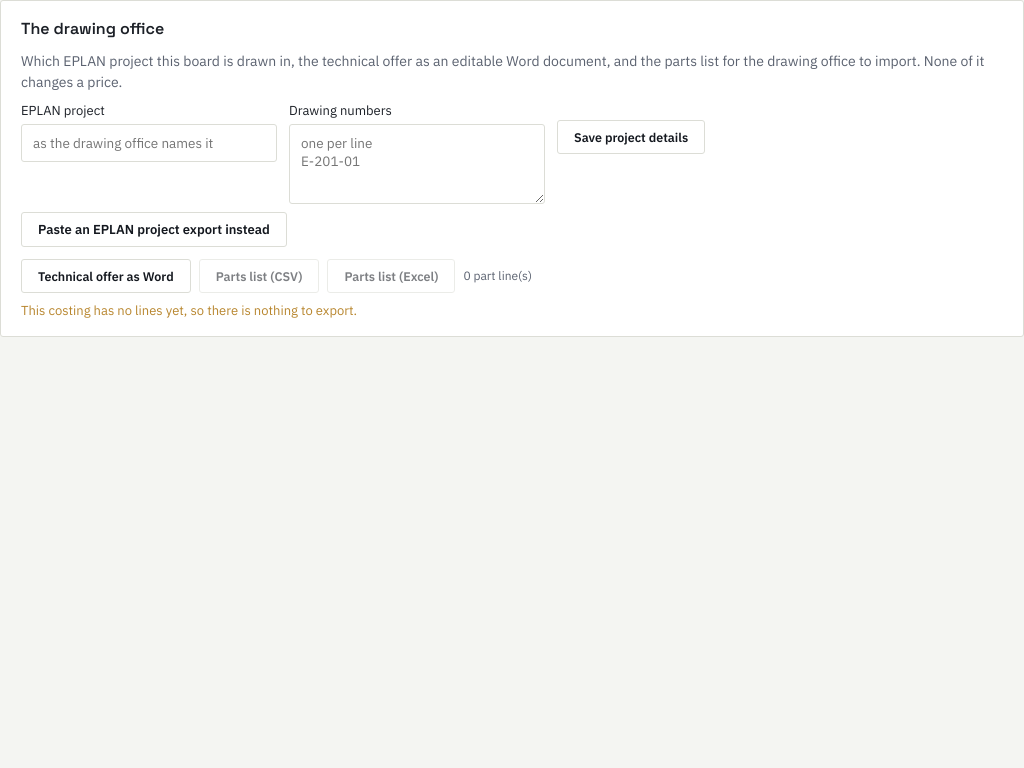
it: pasting an EPLAN export in › cannot be saved when it found nothing
Click the button "Paste an EPLAN project export instead" at (154, 229), box [21, 212, 287, 247]
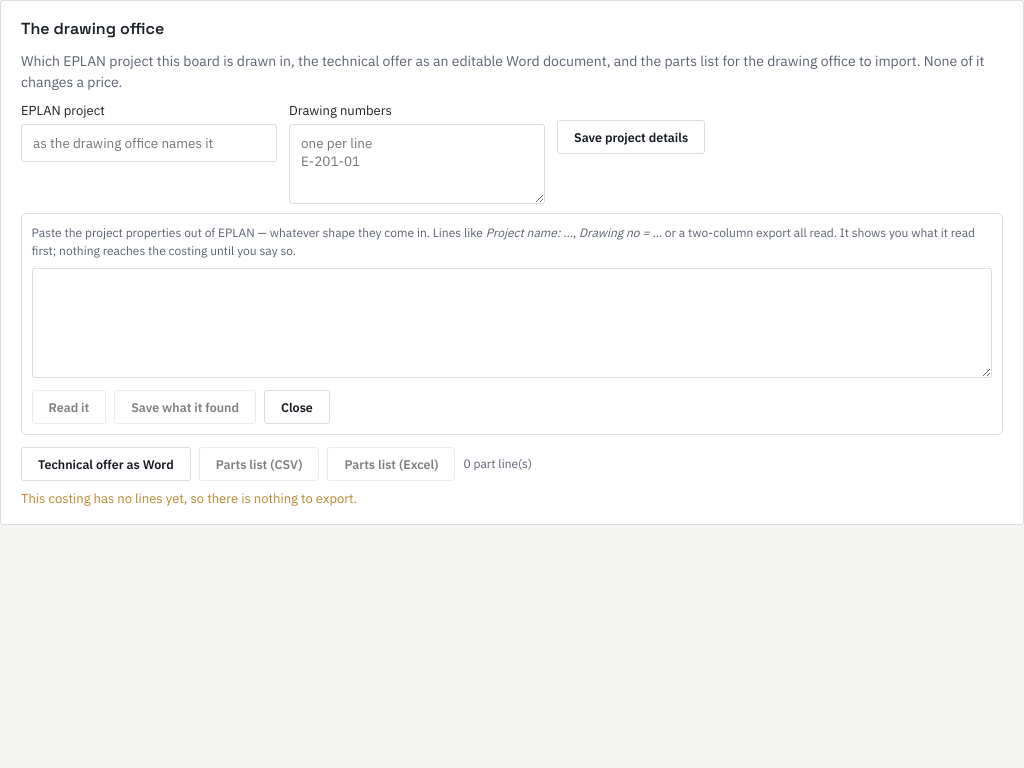
Type "Customer: X" into the text box named "Pasted EPLAN export" at (512, 323), box [32, 268, 992, 378]
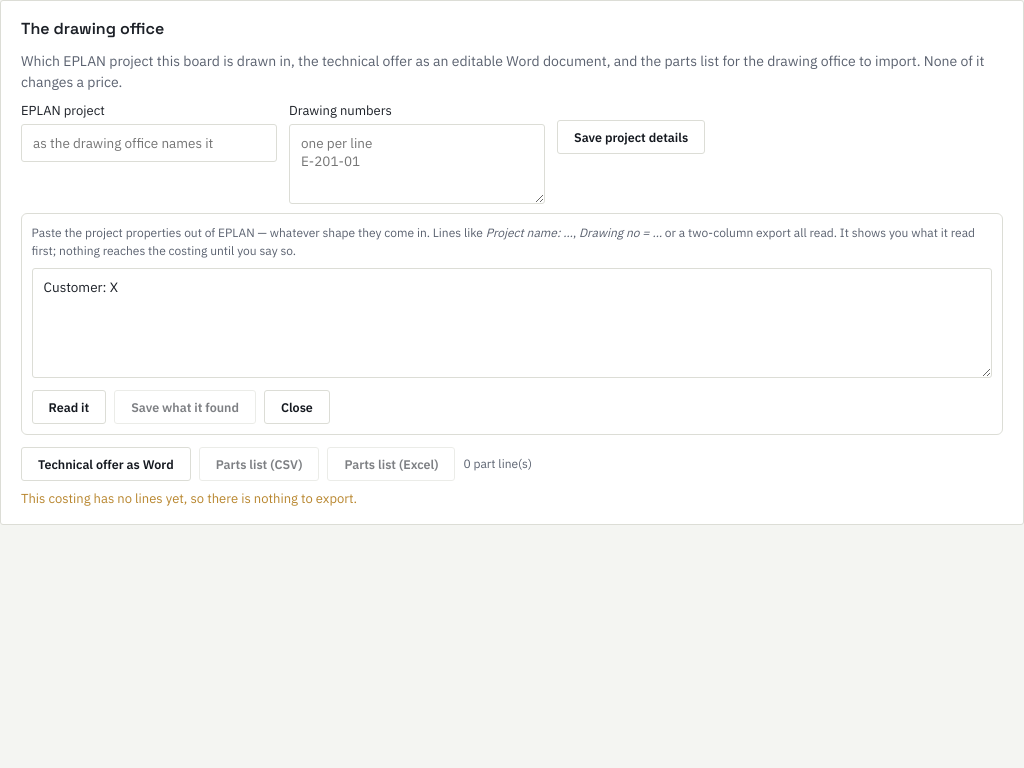
Click the button "Read it" at (69, 407), box [32, 390, 106, 424]
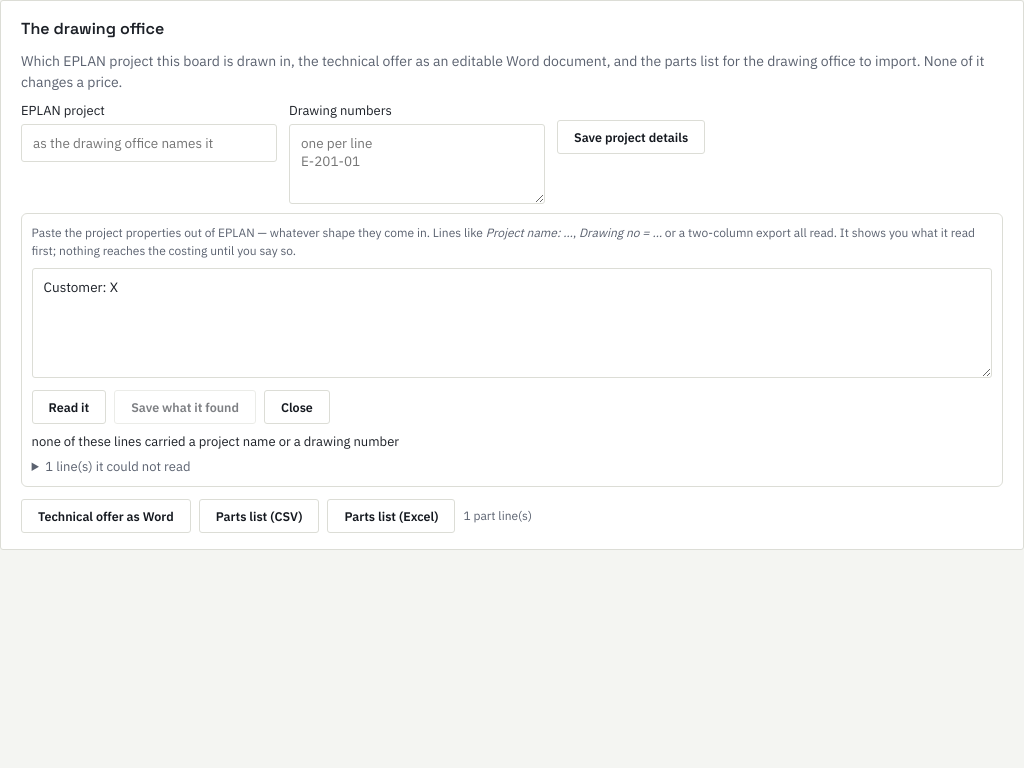
Now the button "Save what it found" is disabled, box [114, 390, 256, 424]
Now the text "none of these lines carried" is shown, box [32, 433, 399, 450]
